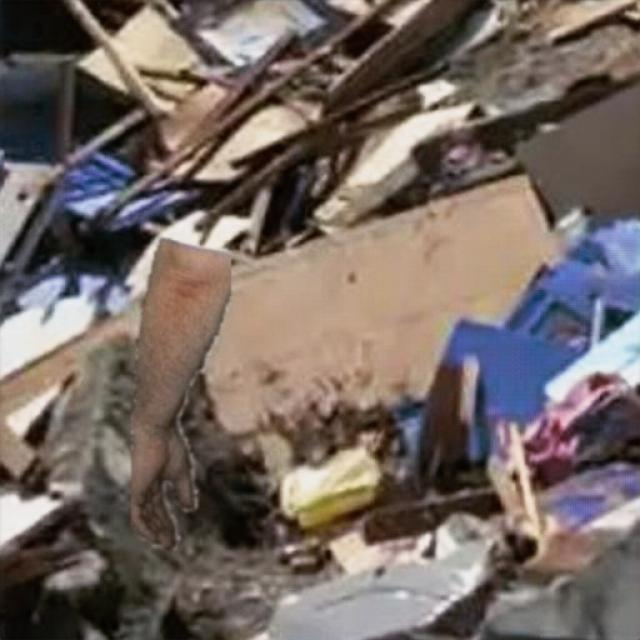Person in Rubble: (131, 237, 230, 548)
